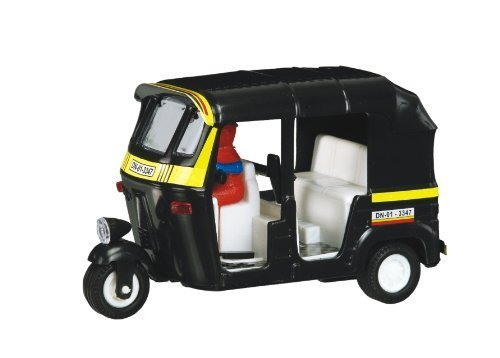rickshaw: (74, 62, 449, 313)
